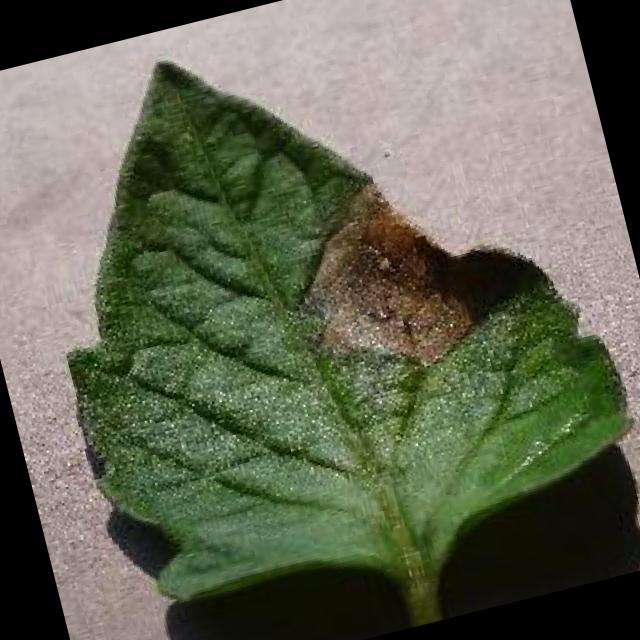Tomato late blight leaf: (3, 0, 640, 625)
